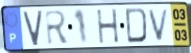1: (72, 8, 89, 47)
D: (125, 6, 149, 45)
H: (95, 8, 121, 46)
R: (44, 9, 71, 46)
V: (21, 9, 45, 48), (147, 8, 171, 43)
